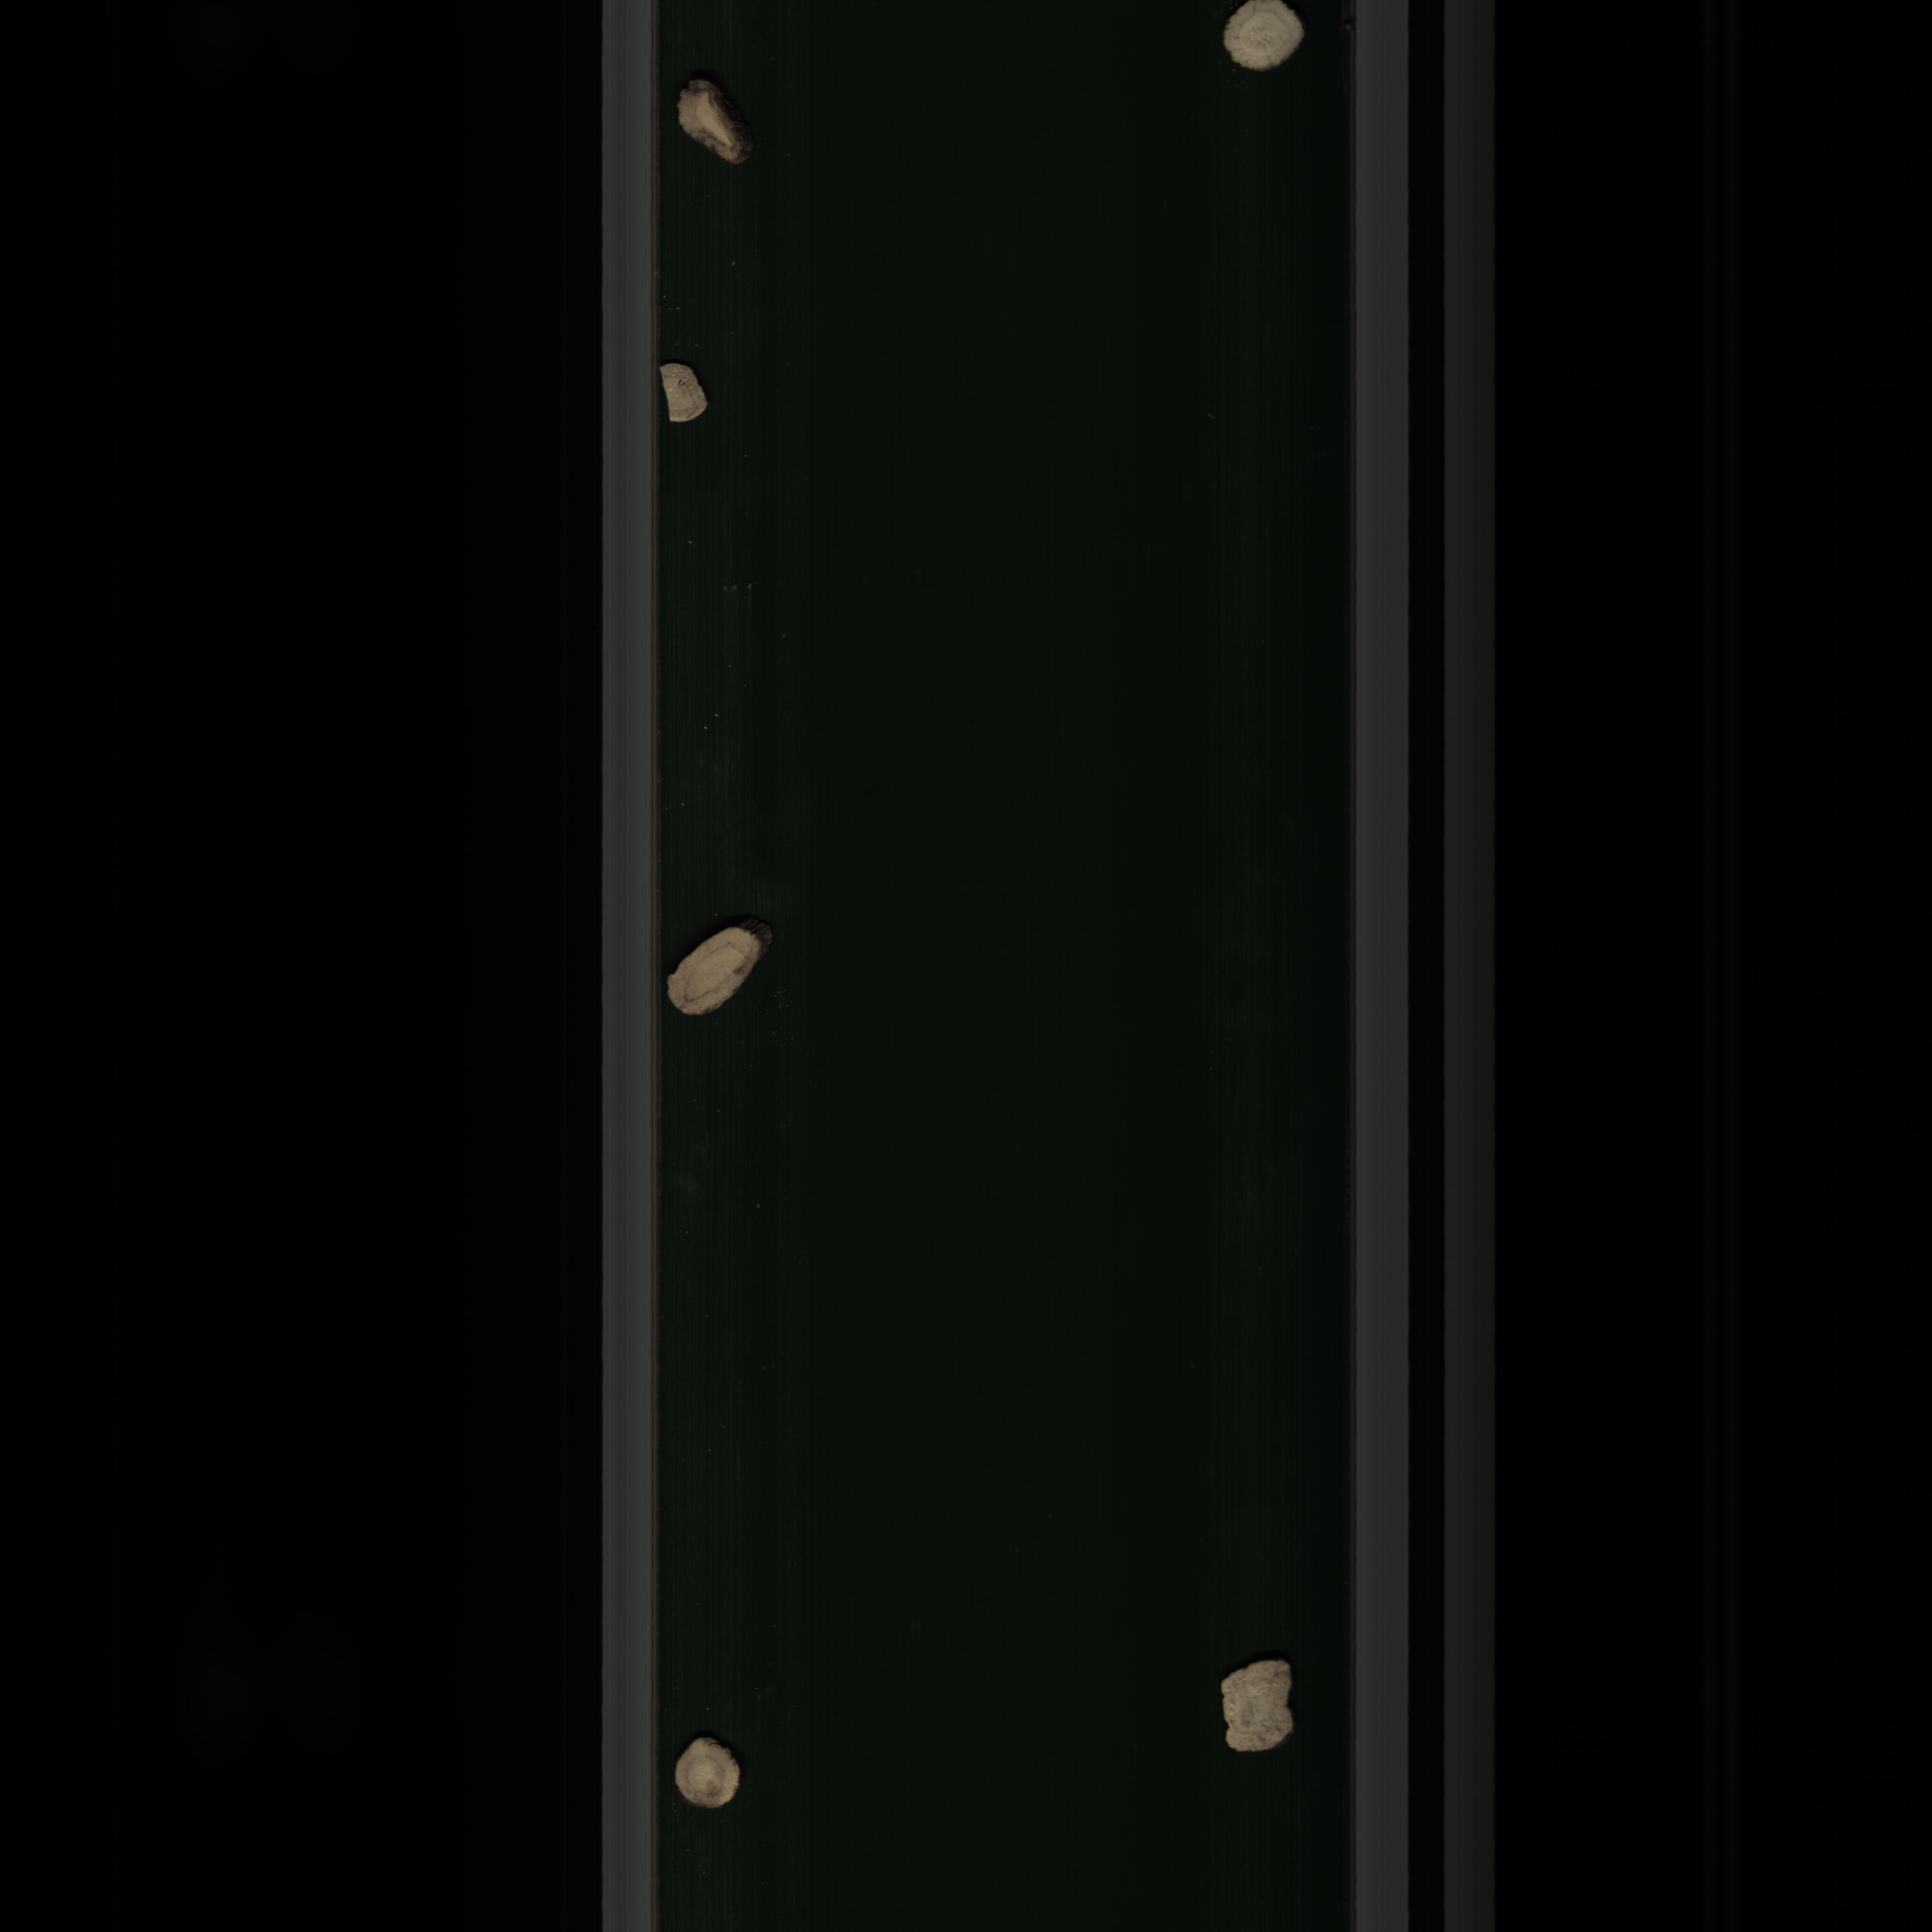bark: (672, 73, 763, 172)
debris: (1205, 1658, 1306, 1764), (655, 357, 715, 430)
distortion: (663, 916, 787, 1026)
